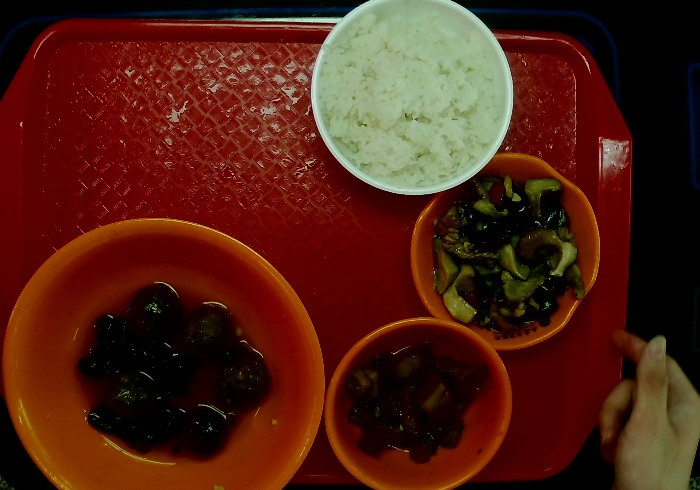YKMZ-Fan_Wan: (263, 2, 482, 200), (301, 1, 520, 199)
YKMZ-Ju_Se_Ao_Bian_Wan: (396, 146, 611, 354)
YKMZ-Ju_Se_Tang_Wan: (1, 202, 334, 490)
YKMZ-Ju_Se_Yuan_Wan: (312, 305, 518, 490)
